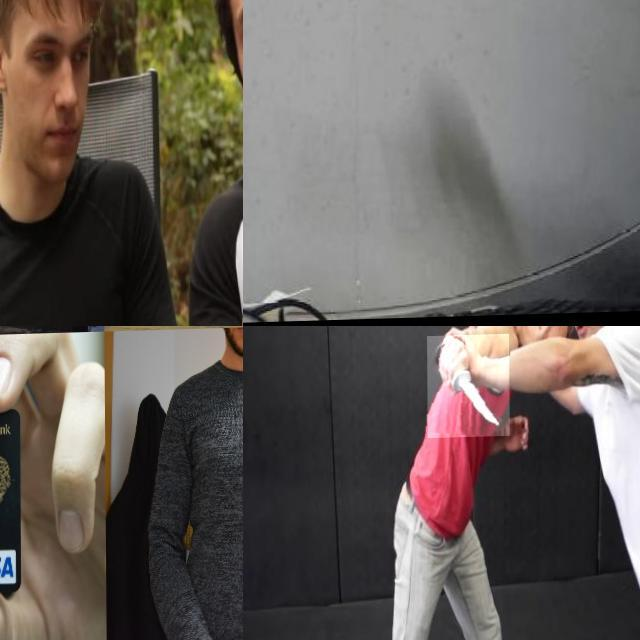-: (243, 0, 477, 65), (426, 336, 509, 439)
